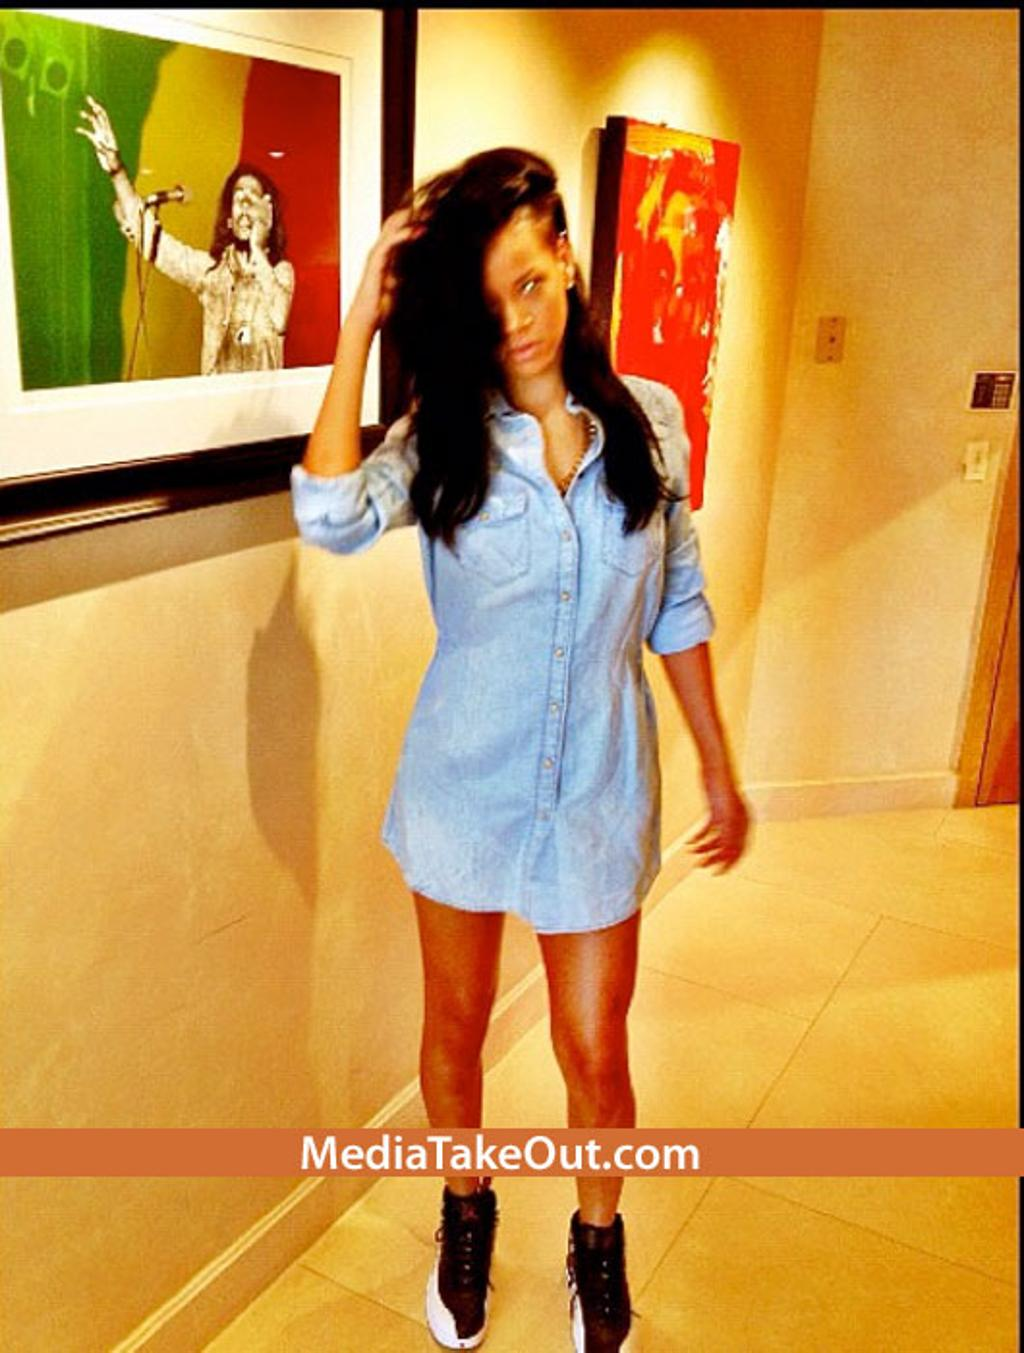face: (446, 227, 565, 375), (219, 166, 274, 240)
